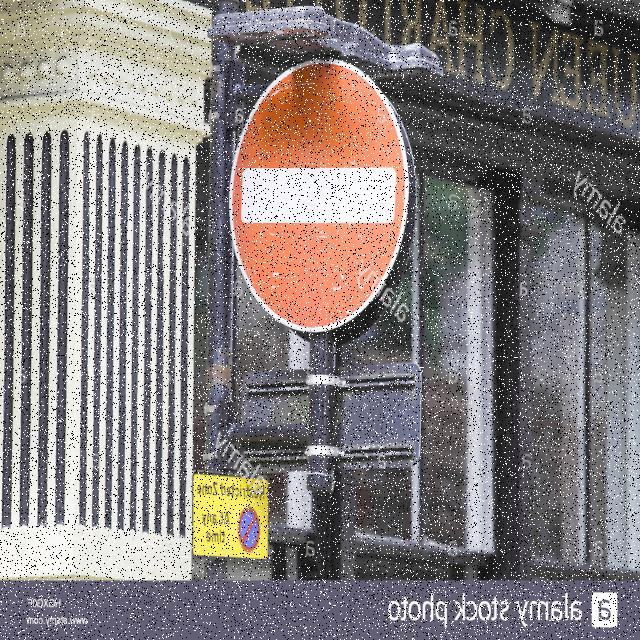no entry: (228, 59, 409, 336)
